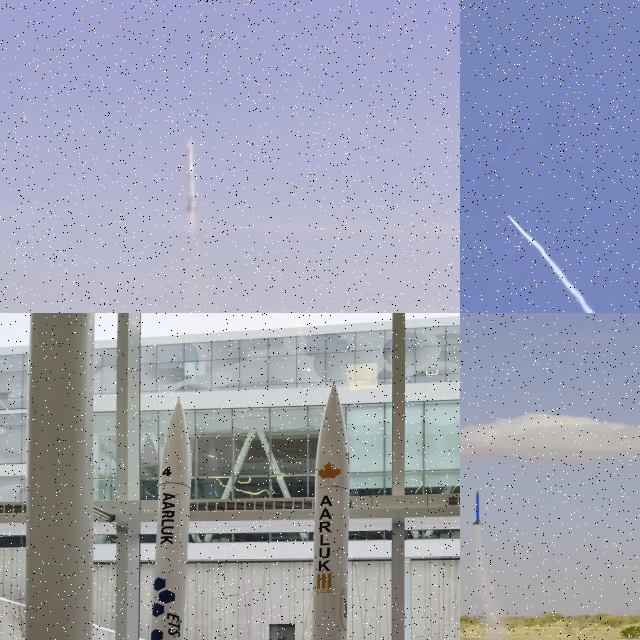Rocket: (150, 397, 192, 640), (312, 380, 350, 640), (187, 137, 197, 211), (472, 489, 483, 526), (508, 214, 509, 217)
